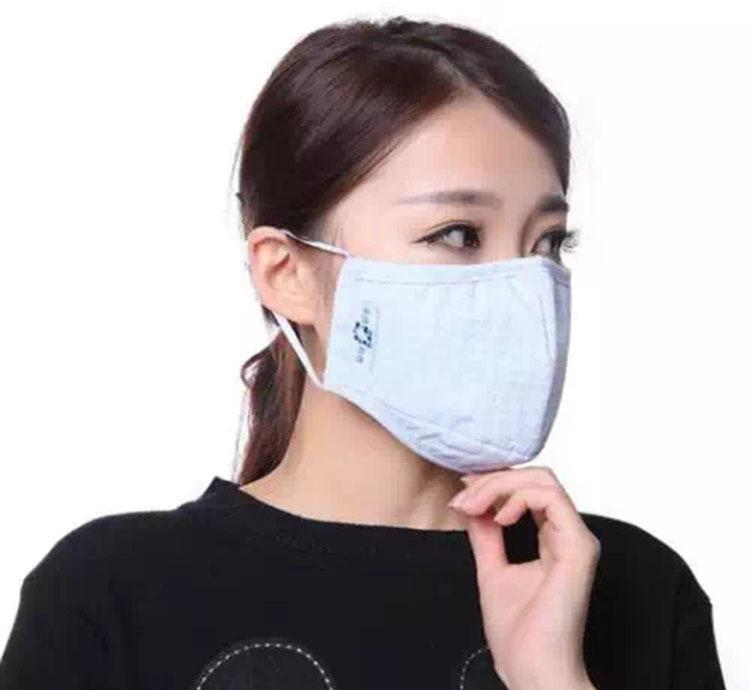face_mask: (322, 103, 569, 463)
